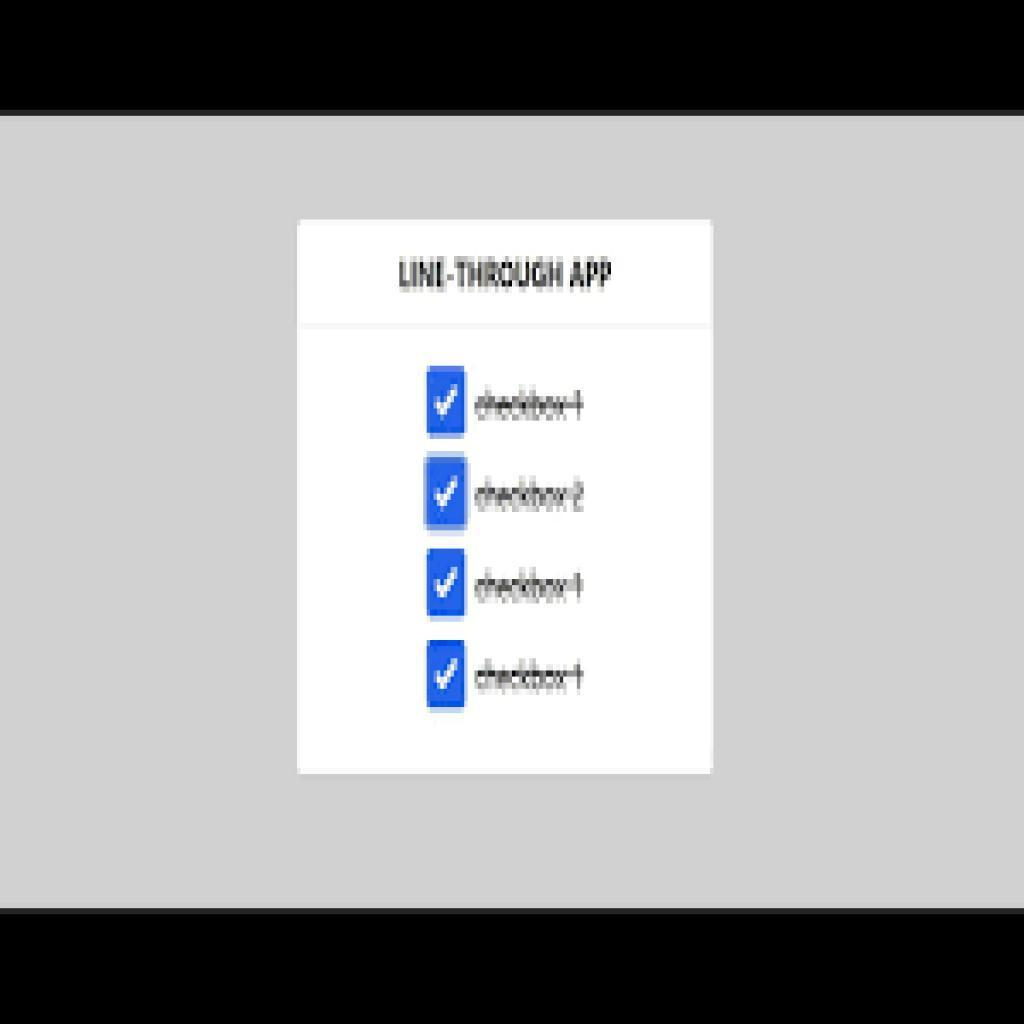checkbox: (425, 639, 469, 709), (424, 459, 463, 532), (426, 369, 468, 436), (425, 551, 466, 614)
label: (395, 245, 616, 296), (473, 475, 591, 521), (474, 657, 591, 699), (470, 569, 587, 610), (476, 387, 590, 429)
